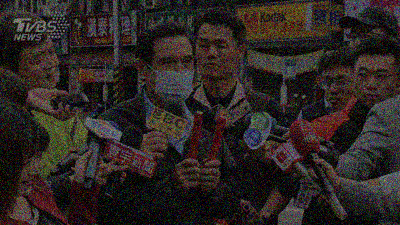with_mask: (153, 53, 196, 107)
without_mask: (196, 36, 239, 81), (354, 66, 400, 108), (26, 43, 60, 89), (16, 148, 42, 199), (324, 73, 353, 112)
